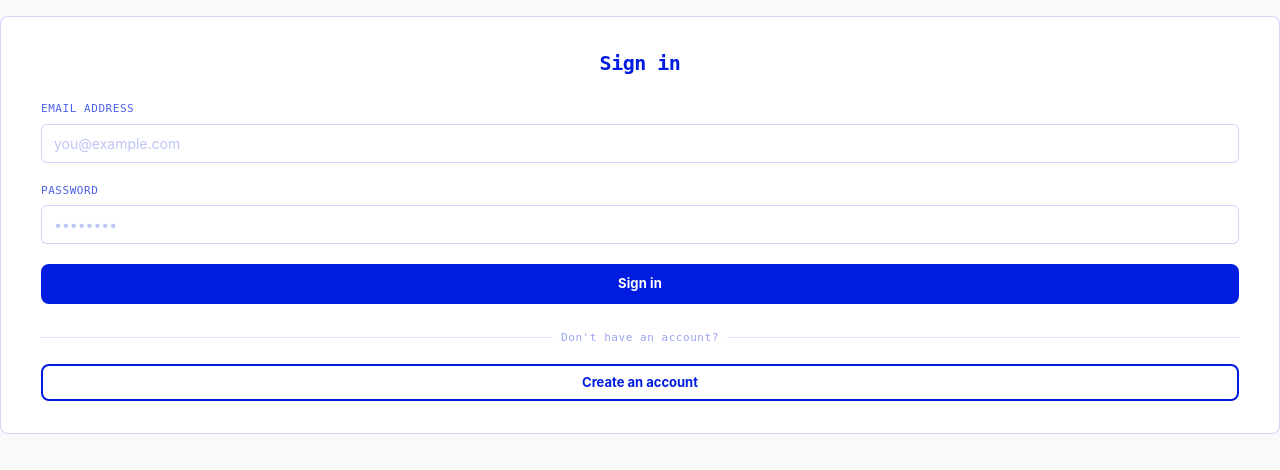
Test case: LoginPage › Validation › shows error when password is empty
Type "test@example.com" into the field labelled "Email address". click: (640, 143)
box: [41,124,1239,162]
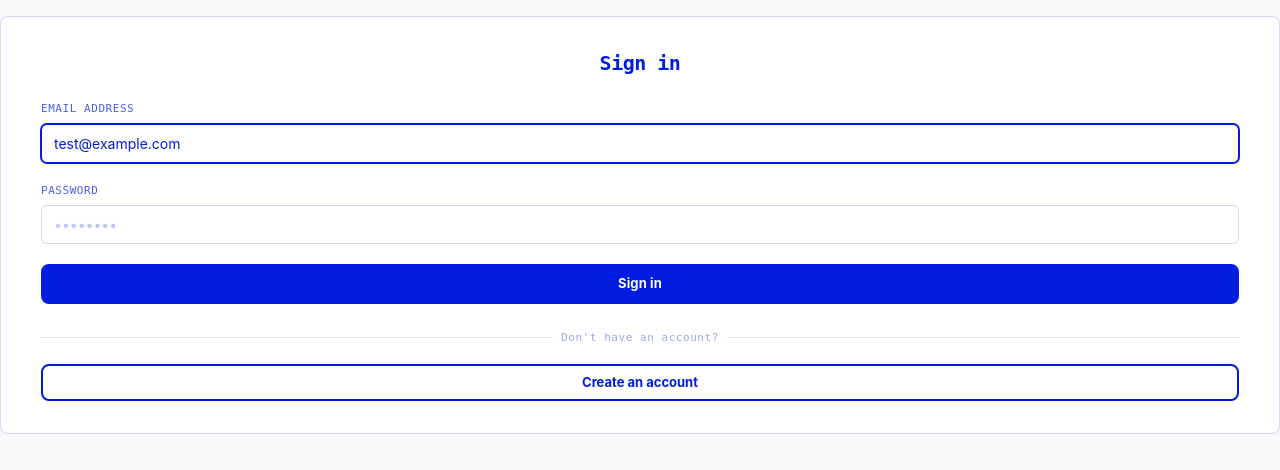
Click the button "Sign in". click: (640, 284)
box: [41,264,1239,304]
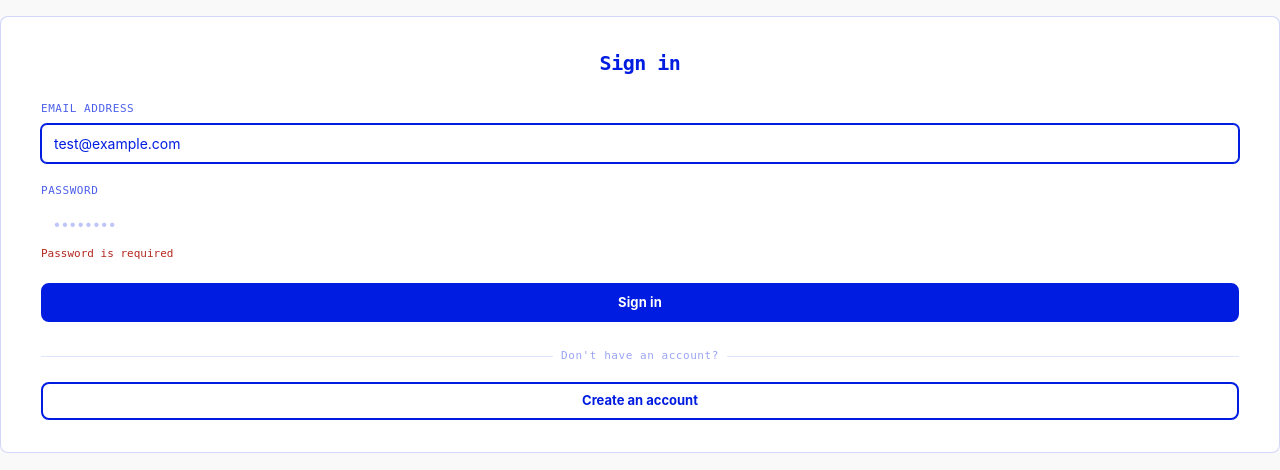
Expected: the text "Password is required" is shown, [41,247,174,260]
